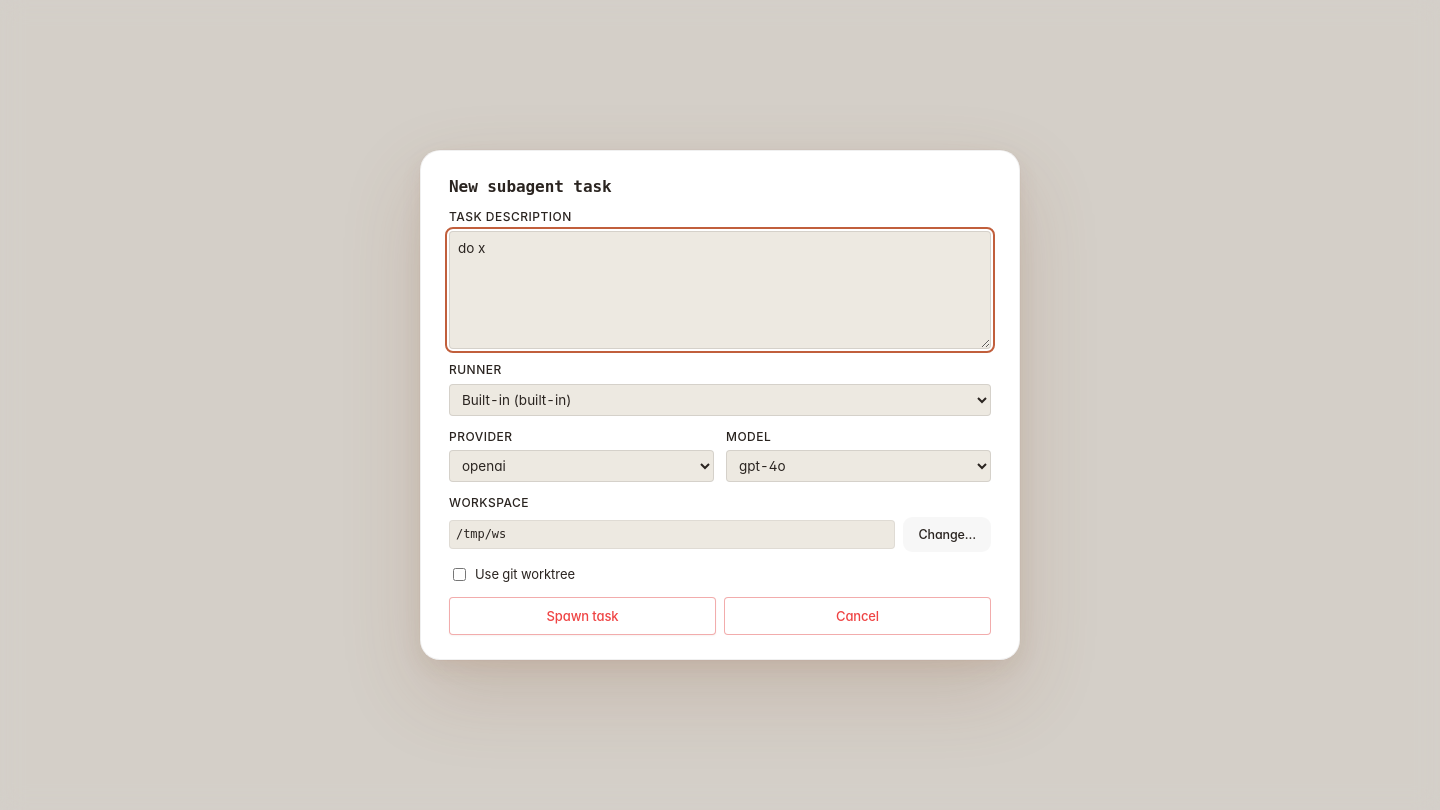
AgentSpawnModal › hides provider + model selects and forces useWorktree on when an external runner is selected
Select "Claude Code (@opencodex/runner-claude-code) — Installed ✓" in the dropdown labelled "Runner" at (720,400), box 449,384 -> 991,416
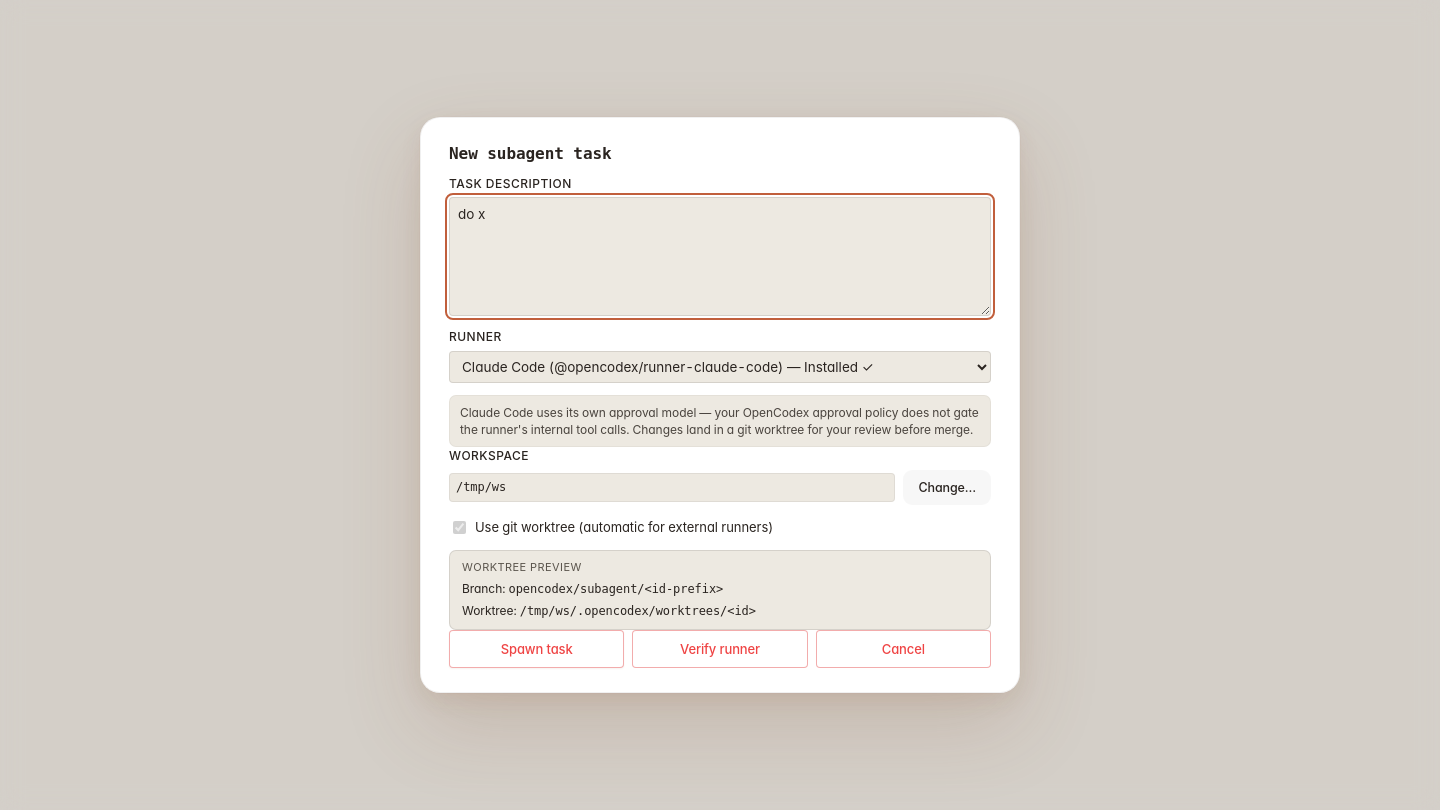
expect the text "Provider" is gone: met
expect the checkbox is checked: met, box 453,521 -> 466,534
expect the checkbox is disabled: met, box 453,521 -> 466,534
